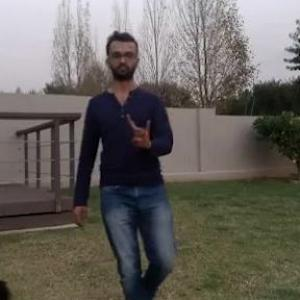takeoff-hand: (126, 107, 155, 151)
